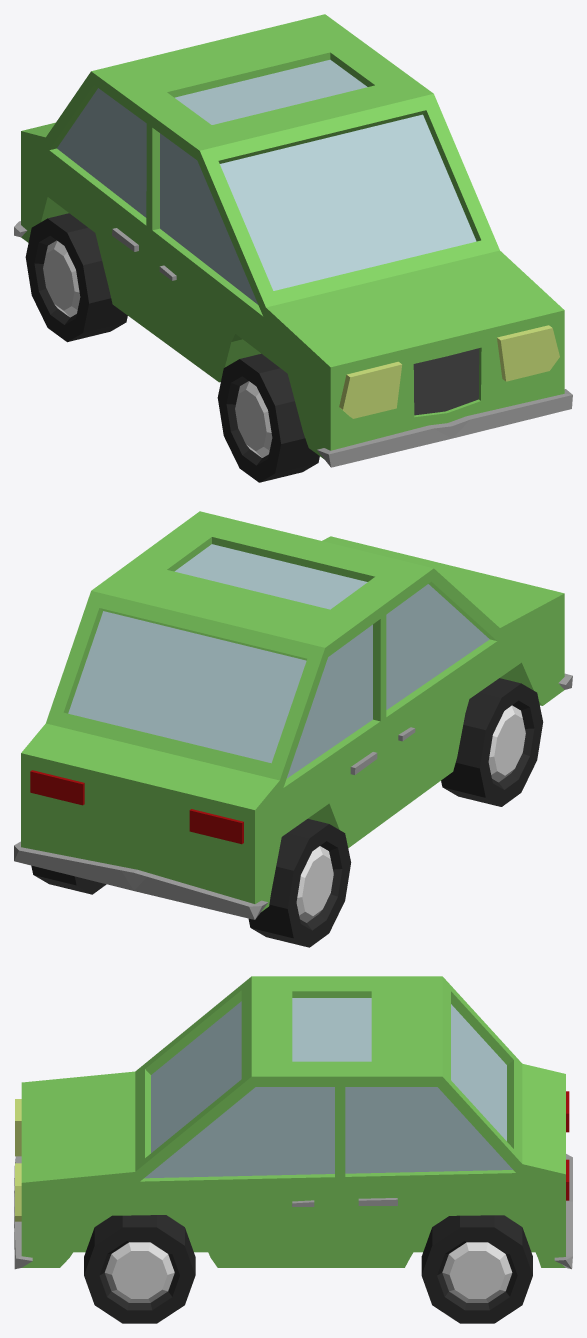
Rendered from Car1.fbx.
The picture shows the model from 3 angles, top to bottom: view 1: azimuth 30°, elevation 25°; view 2: azimuth 150°, elevation 25°; view 3: azimuth 270°, elevation 25°; orthographic projection. The views are drawn at different scales.
Visible parts, largest first — view 1: Cube, Cylinder.003, Cylinder.002; view 2: Cube, Cylinder.003, Cylinder.002, Cylinder.001; view 3: Cube, Cylinder, Cylinder.001.
Part boxes in pixels (left/top/right/bottom): Cube: left=14, top=14, right=572, bottom=467; Cylinder.003: left=217, top=353, right=319, bottom=482; Cylinder.002: left=25, top=213, right=127, bottom=342; Cube: left=14, top=511, right=572, bottom=919; Cylinder.003: left=441, top=678, right=543, bottom=806; Cylinder.002: left=248, top=819, right=351, bottom=947; Cylinder.001: left=31, top=865, right=106, bottom=894; Cube: left=14, top=976, right=572, bottom=1269; Cylinder: left=84, top=1215, right=195, bottom=1323; Cylinder.001: left=421, top=1215, right=532, bottom=1323.
Size of the model in its own units: 89.21 by 89.91 by 189.
